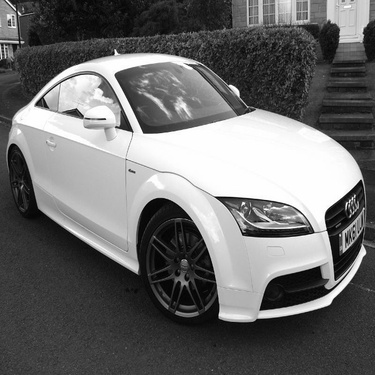car: (9, 43, 367, 327)
